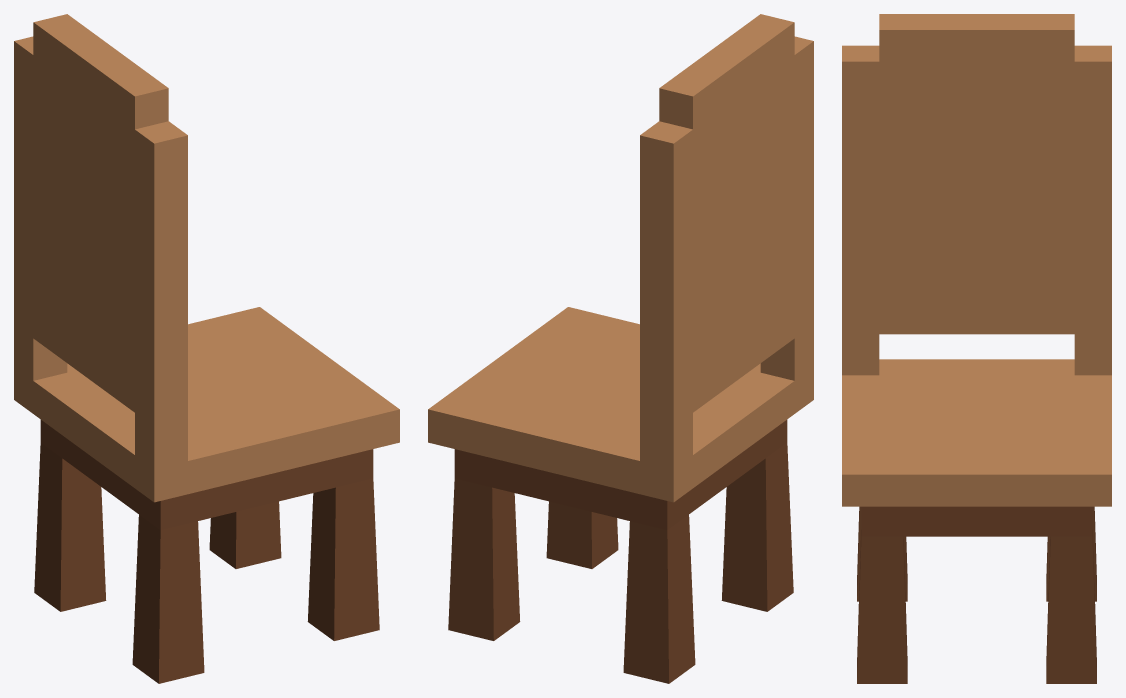
Rendered from Chair.glb.
3 views of the same model, side by side, from view 1: azimuth 30°, elevation 25°; view 2: azimuth 150°, elevation 25°; view 3: azimuth 270°, elevation 25° (orthographic). The views are drawn at different scales.
Size of the model in its own units: 0.4379 by 0.9913 by 0.4326.
